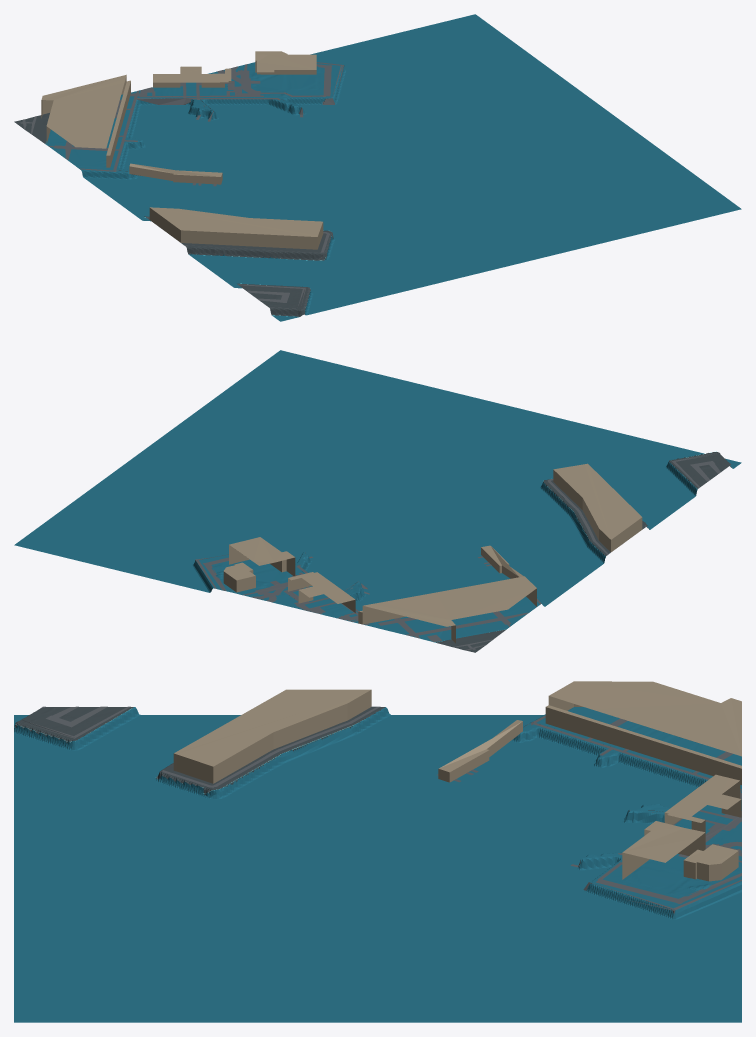
The model's file is epsg26910-1441-10894.lod0.glb.
3 views of the same model, one above another, from view 1: azimuth 30°, elevation 25°; view 2: azimuth 150°, elevation 25°; view 3: azimuth 270°, elevation 25° (orthographic). The views are drawn at different scales.
Parts seen in each view (by area): view 1: epsg26910-1441-10894-lod0; view 2: epsg26910-1441-10894-lod0; view 3: epsg26910-1441-10894-lod0.
Part boxes in pixels (x1=…): epsg26910-1441-10894-lod0: x1=14, y1=14, x2=741, y2=321; epsg26910-1441-10894-lod0: x1=14, y1=350, x2=741, y2=652; epsg26910-1441-10894-lod0: x1=14, y1=681, x2=741, y2=1022.
Size of the model in its own units: 384 by 20.84 by 384.
